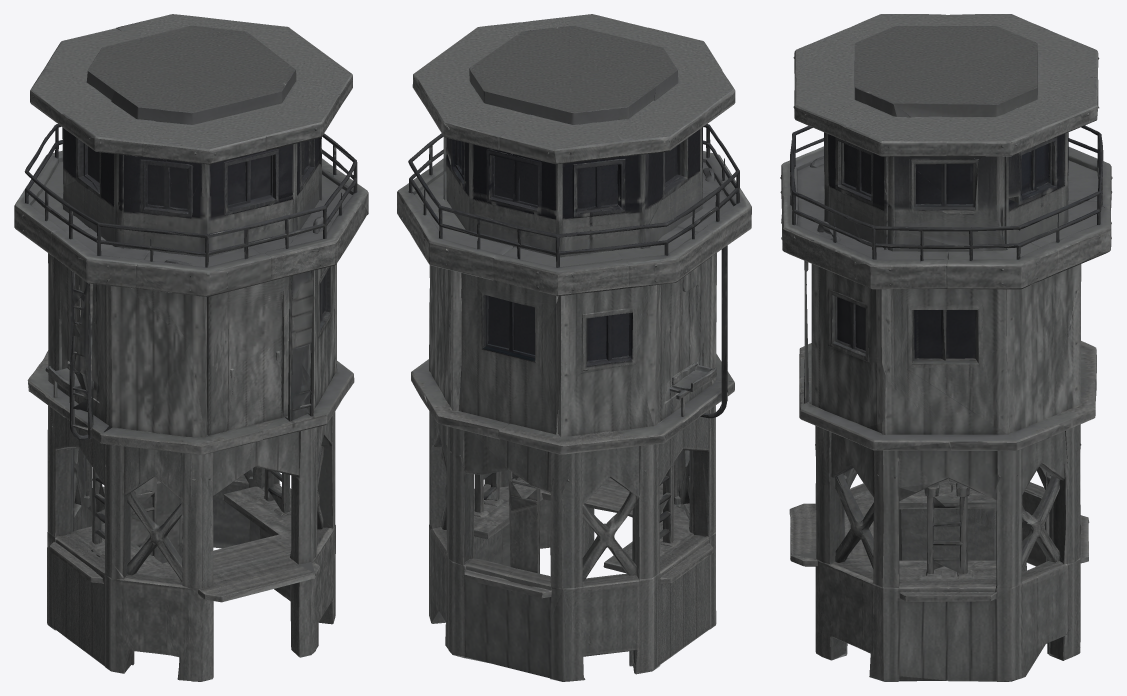
The model's file is watchtower-heavy.glb.
3 renders of one model, left to right at view 1: azimuth 30°, elevation 25°; view 2: azimuth 150°, elevation 25°; view 3: azimuth 270°, elevation 25°, orthographic.
Bounding box in the file's own units: 1.02 × 1.9 × 1.02.
Materials: 1 (1 with a texture image).
